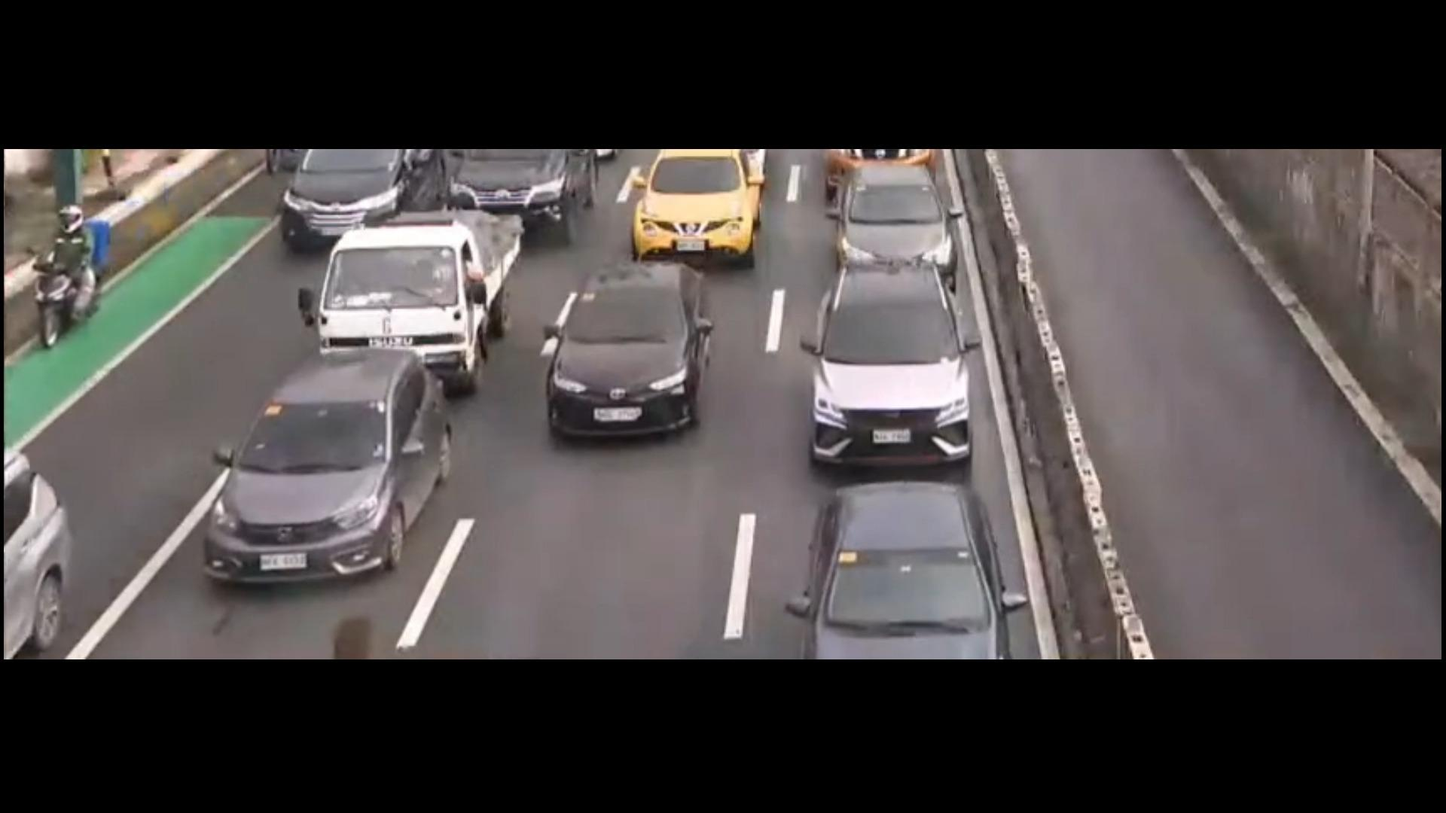Motorcycle: (10, 172, 127, 346)
SUV: (777, 259, 999, 493), (794, 473, 1006, 663), (453, 149, 600, 240), (282, 152, 437, 235)
Sedan: (159, 311, 465, 601), (541, 240, 744, 463), (614, 136, 782, 273), (813, 151, 999, 268)
Truck: (314, 194, 543, 398)
